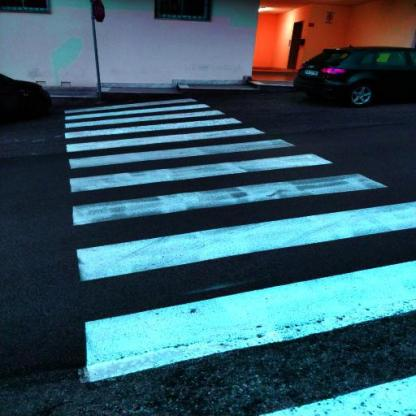crosswalk: (55, 151, 408, 229), (57, 106, 247, 142)
